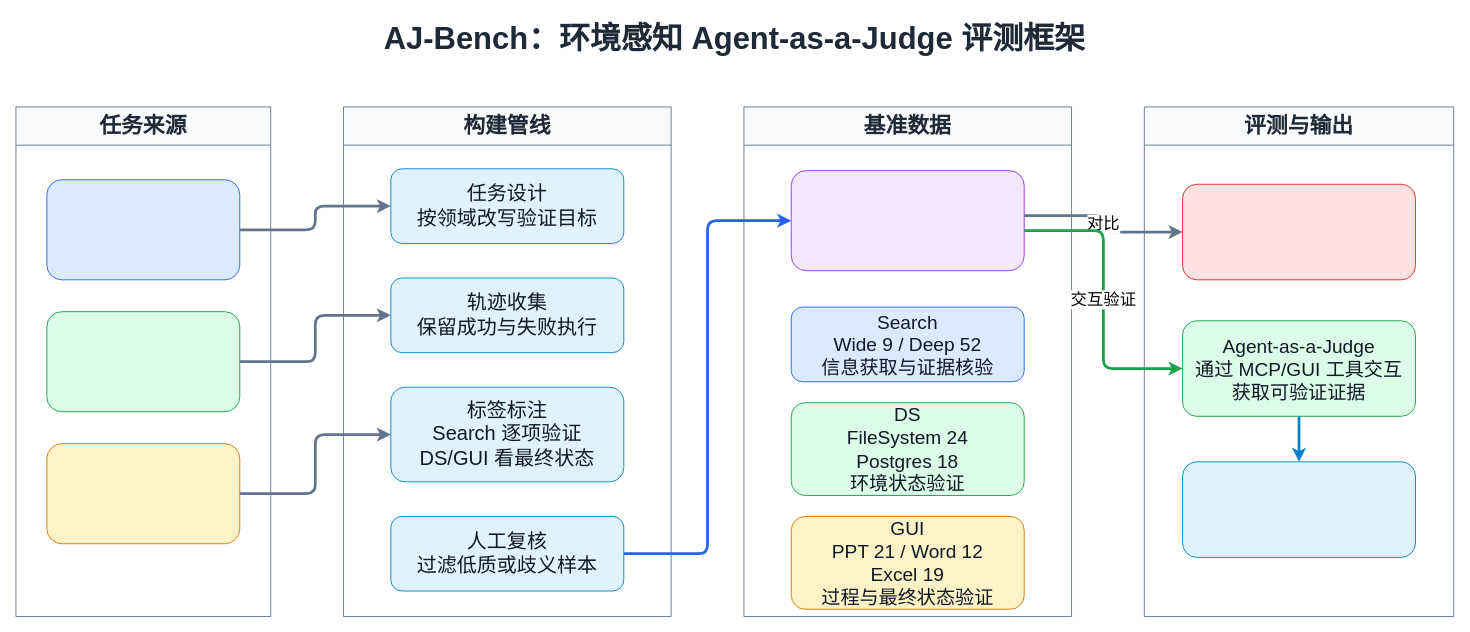
The diagram is 1470 pixels wide and 632 high, and some of its shapes have lost their labels. Here are the shapes that lost their labels. From the top down, the centre of each, then its label:
At [143,229]: "Search Mind2Web-2 WideSearch".
At [907,220]: "155 个任务 516 条标注轨迹 60 个工具".
At [1299,231]: "LLM-as-a-Judge 只看题目与轨迹文本 不主动访问环境".
At [143,361]: "DS MCPMark 文件与数据库任务".
At [143,493]: "GUI OSWorld 桌面轨迹".
At [1299,509]: "F1 / Leaderboard 推理强度、交互轮数、模态消融".
